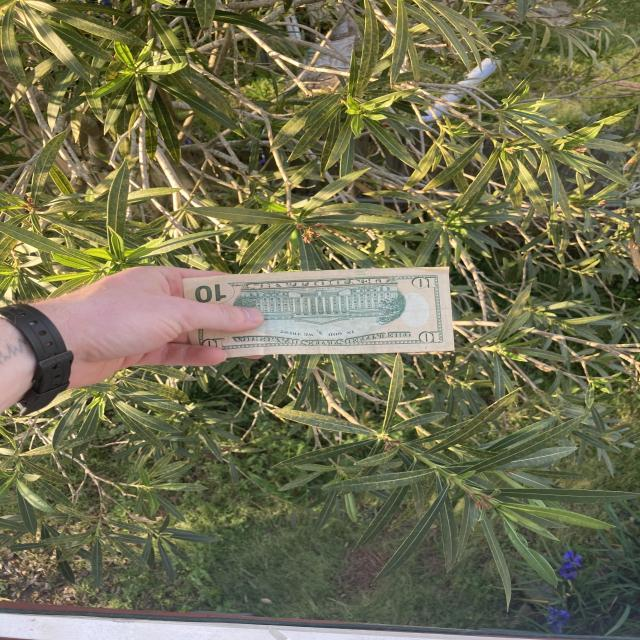ten: (182, 266, 456, 360)
